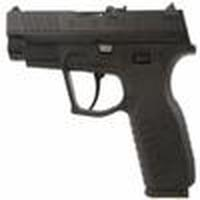gun: (3, 7, 200, 195)
